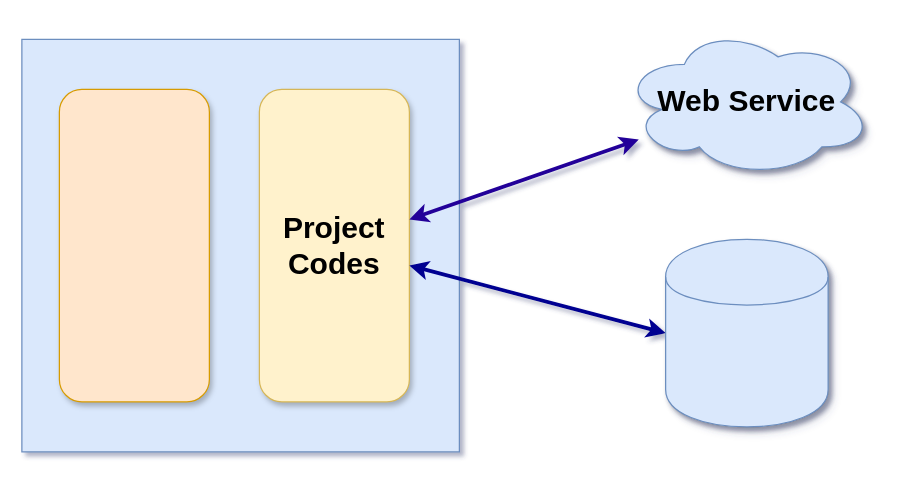
Image size: 909x481. Some labels were removed from this diagram. The centre of each missing label's shape, as x and y in pixels:
"Database" goes at point 747,334.
"Unit Tests" goes at point 135,247.
